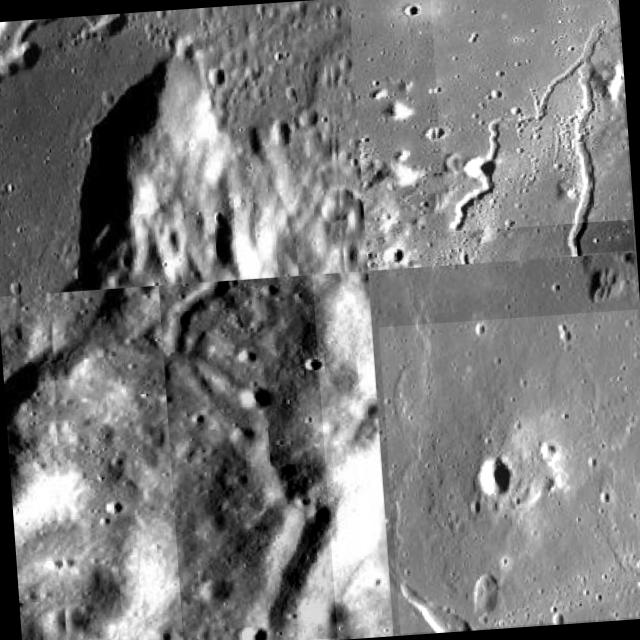rille: (379, 308, 640, 633), (158, 274, 337, 640), (430, 0, 632, 232), (0, 1, 301, 73), (550, 57, 634, 255)
